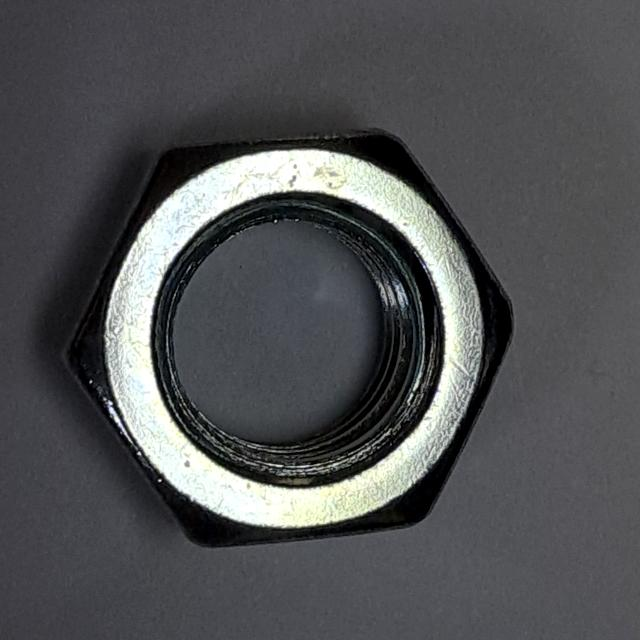Excellent: (38, 113, 527, 567)
